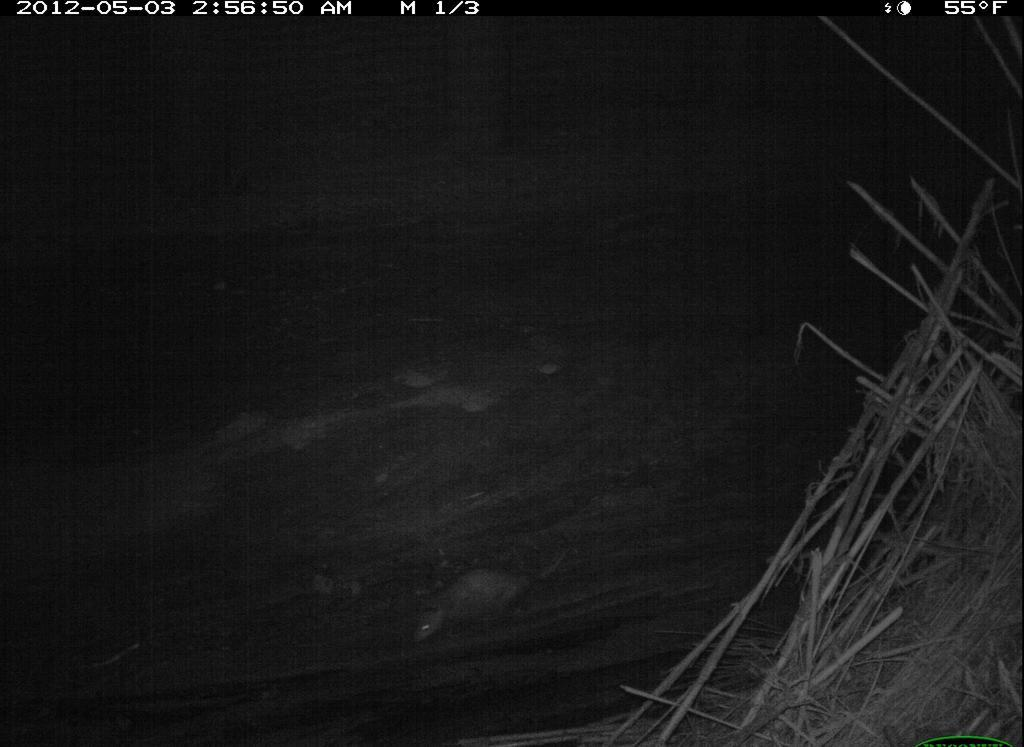opossum: (401, 538, 585, 658)
